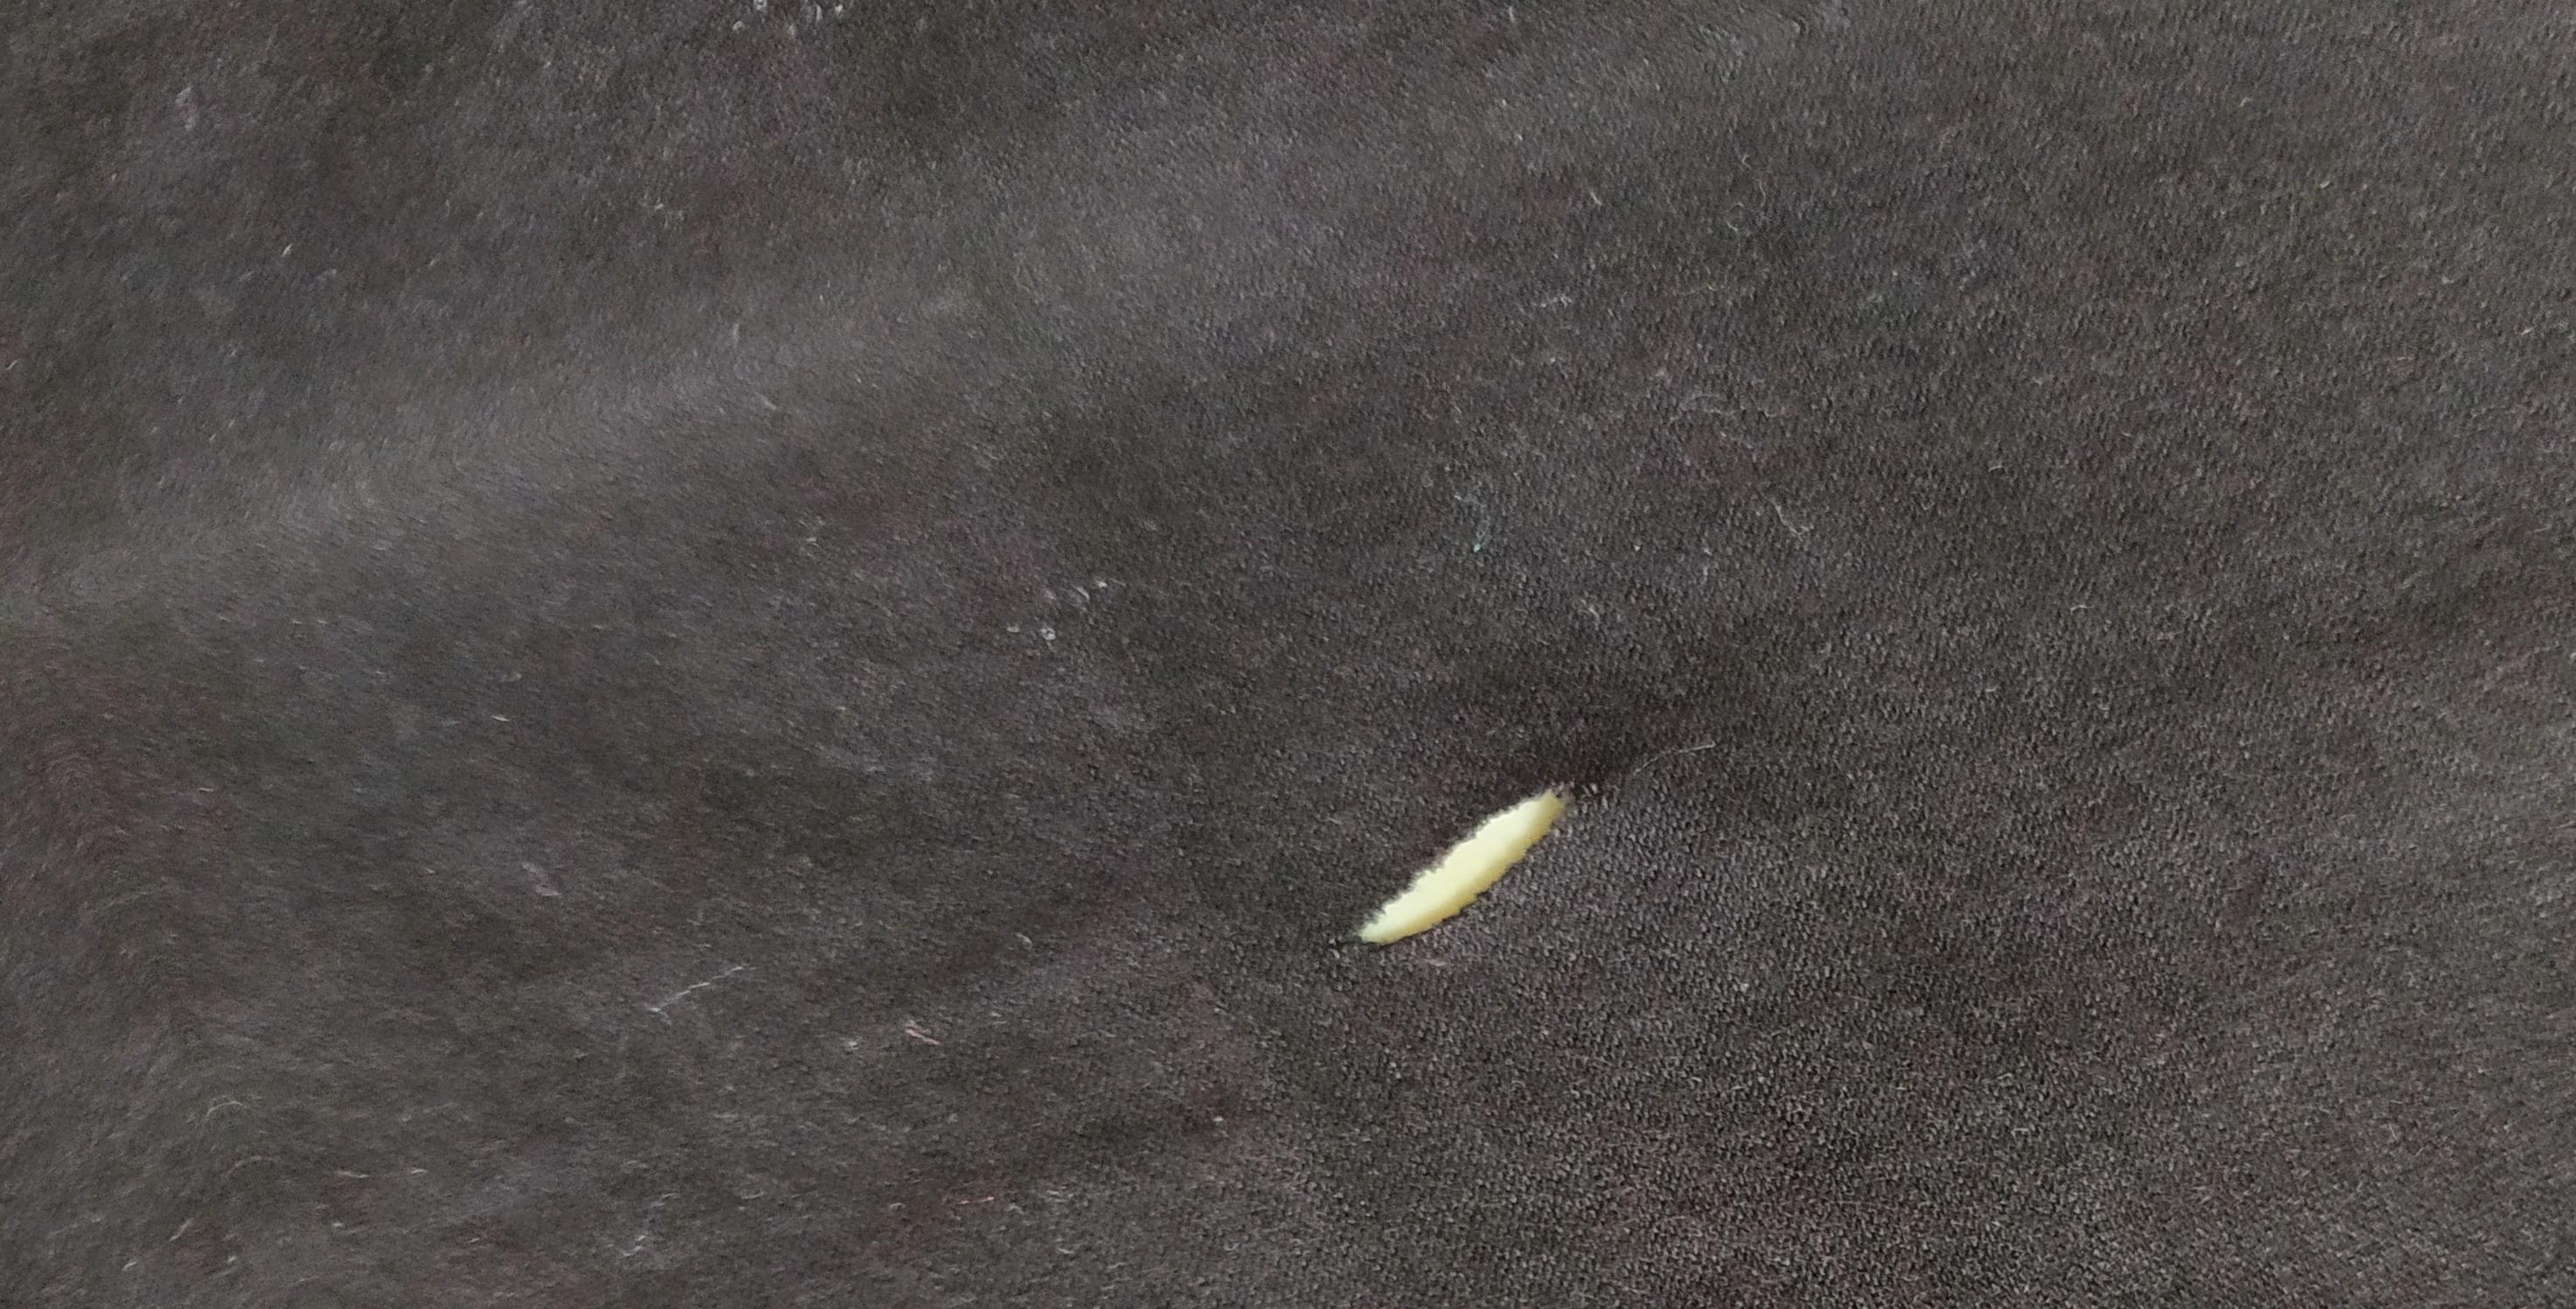hole: (1338, 778, 1595, 968)
